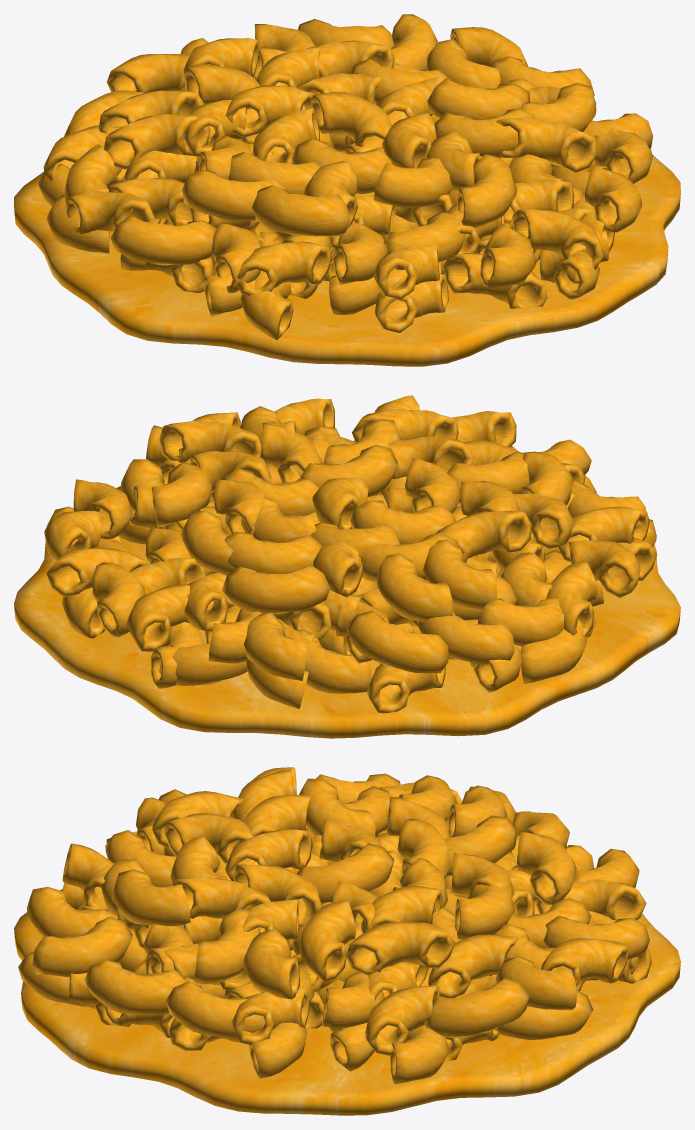
File: sides-macaroni.glb
3 views of the same model, one above another, from view 1: azimuth 30°, elevation 25°; view 2: azimuth 150°, elevation 25°; view 3: azimuth 270°, elevation 25° (orthographic).
Visible parts, largest first — view 1: Creamy cheddar base; view 2: Creamy cheddar base; view 3: Creamy cheddar base.
Boxes of the visible parts, bbox=[...] form: Creamy cheddar base: bbox=[14, 14, 680, 366]; Creamy cheddar base: bbox=[14, 395, 680, 738]; Creamy cheddar base: bbox=[14, 767, 680, 1115].
Bounding box in the file's own units: 2.03 × 0.4282 × 2.07.
1 material, 1 textured.
